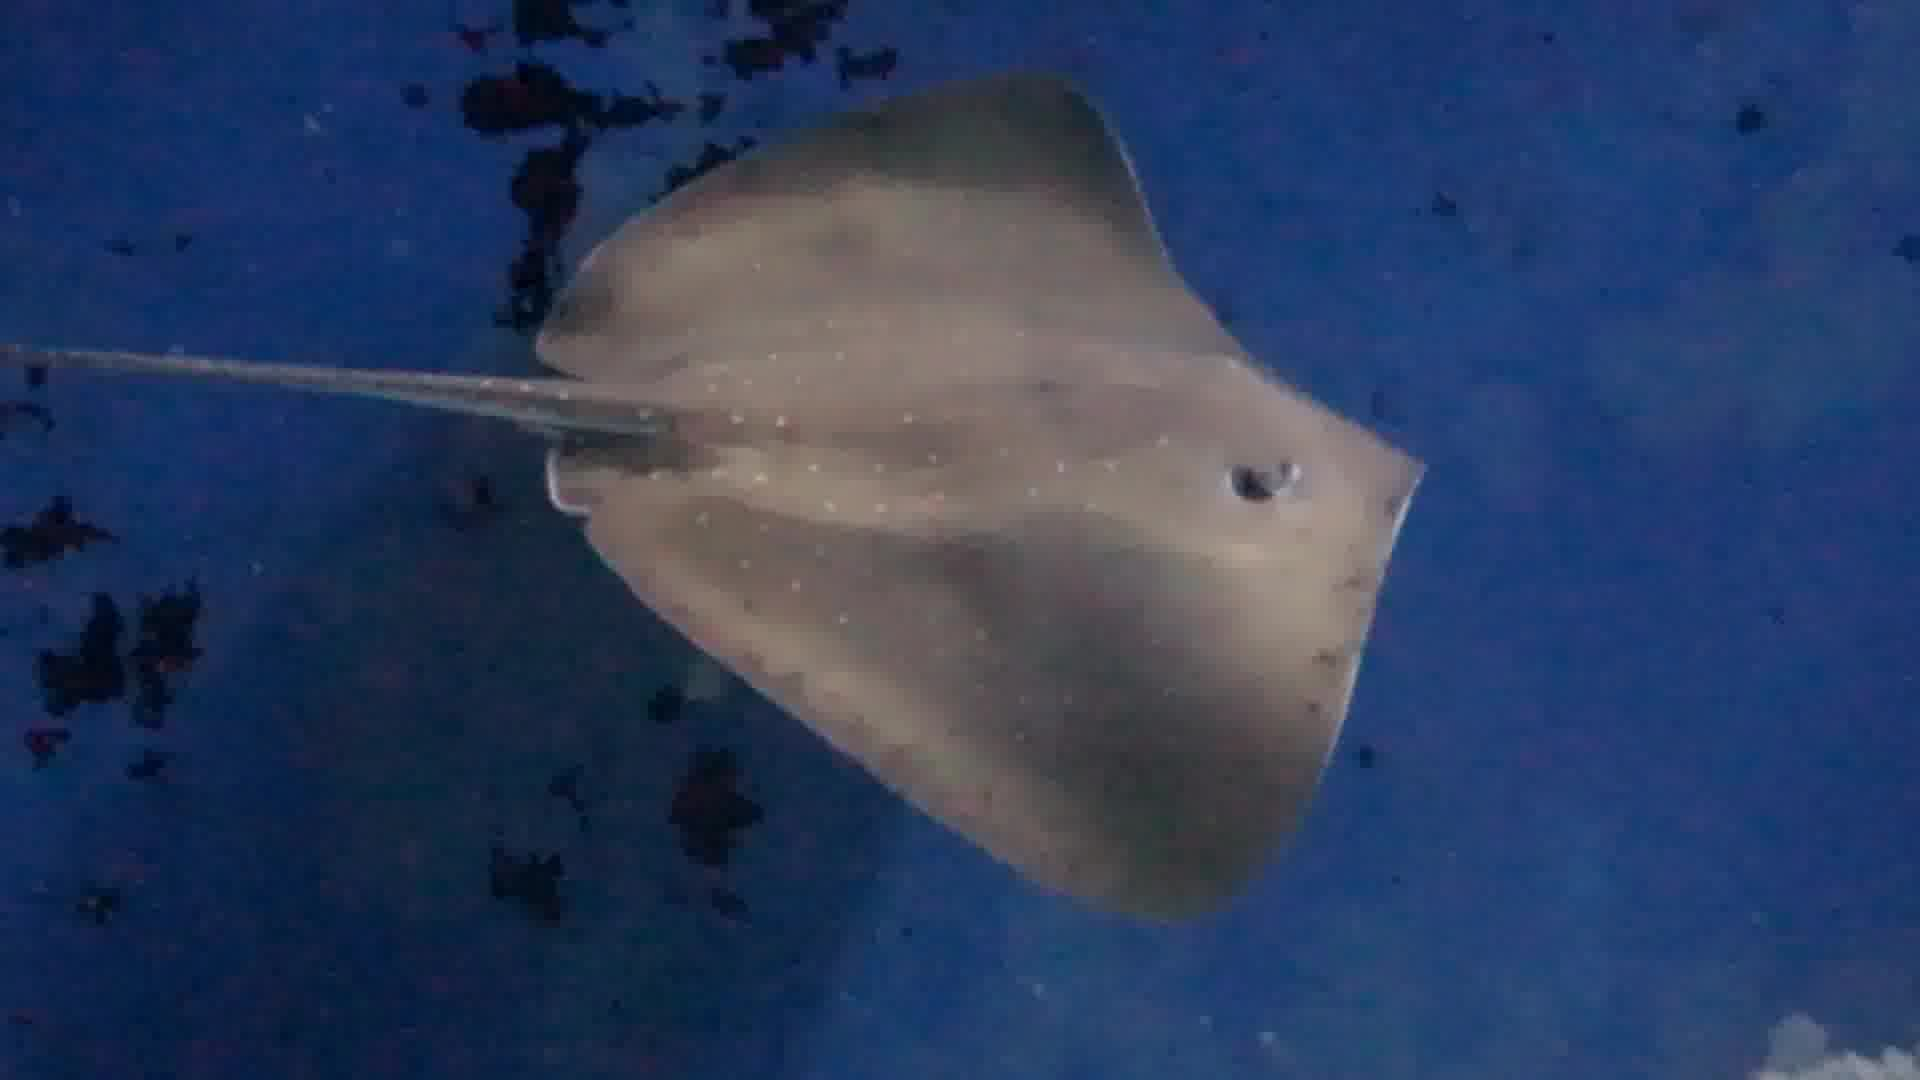Himantura gerrardi: (1, 73, 1436, 928)
